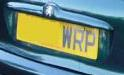P: (84, 29, 96, 53)
R: (73, 27, 84, 51)
W: (62, 24, 72, 49)
